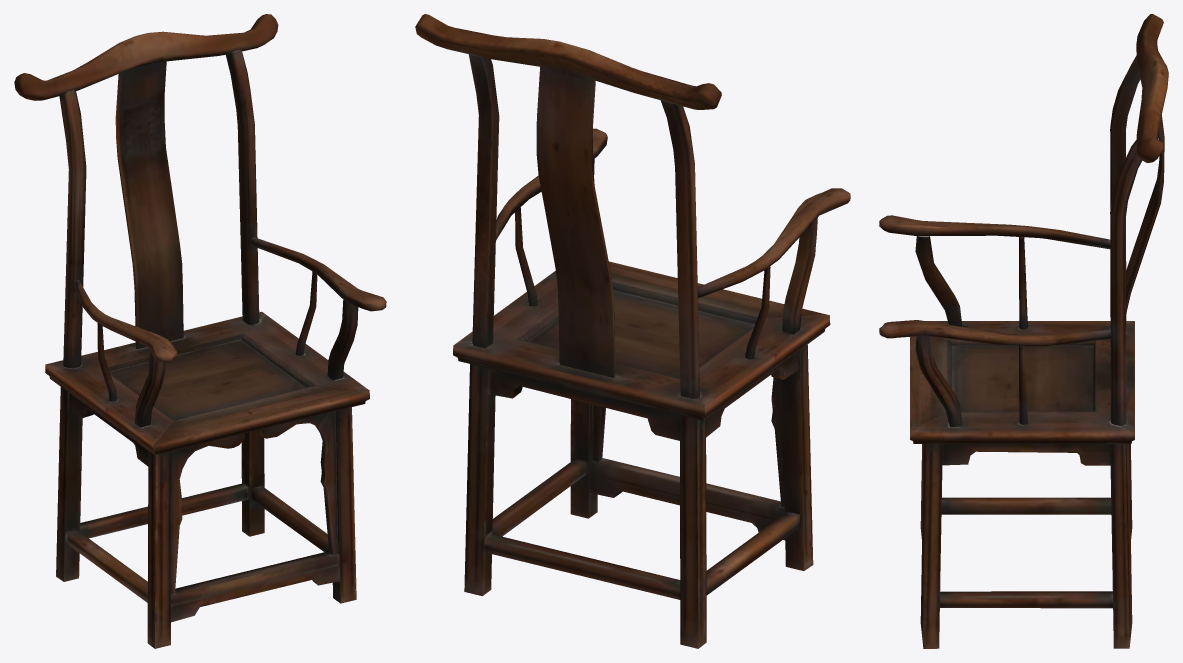
File: cn_armchair.glb
3 views of the same model, side by side, from view 1: azimuth 30°, elevation 25°; view 2: azimuth 150°, elevation 25°; view 3: azimuth 270°, elevation 25° (orthographic). The views are drawn at different scales.
Visible parts, largest first — view 1: cn_armchair; view 2: cn_armchair; view 3: cn_armchair.
Part boxes in pixels (x1,y1,x2,y2): cn_armchair: (14, 14, 386, 648); cn_armchair: (415, 14, 850, 648); cn_armchair: (879, 14, 1168, 648).
Bounding box in the file's own units: 0.8483 × 1.59 × 0.7886.
1 material, 1 textured.
